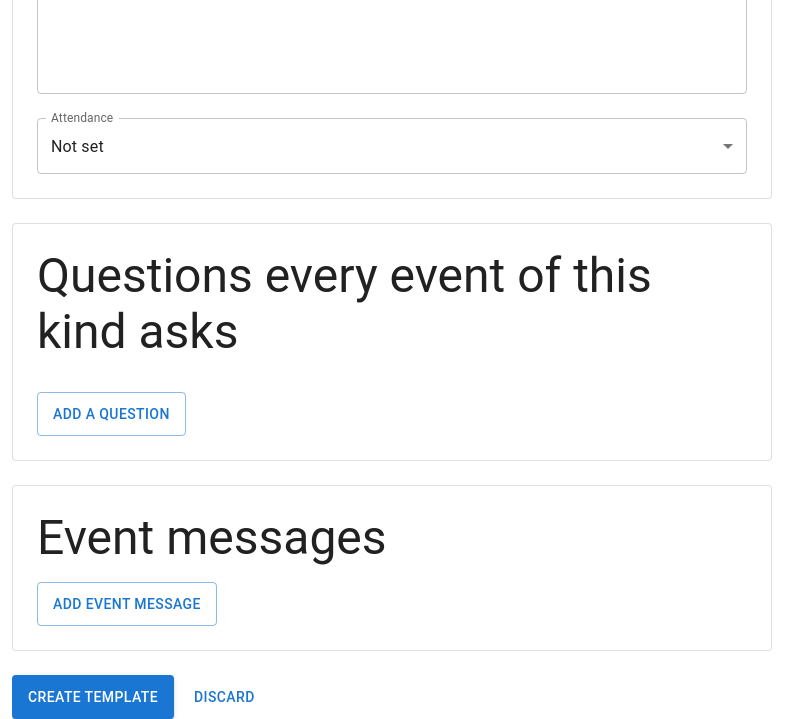
Test: colour is chosen from a fixed palette (Brian, 2026-09-10) › shows a refused colour as the field's own error, in place of the help text
(page scrolled)
Click the button with test id "preview-template": click(93, 697) [12, 675, 174, 718]
(page scrolled)
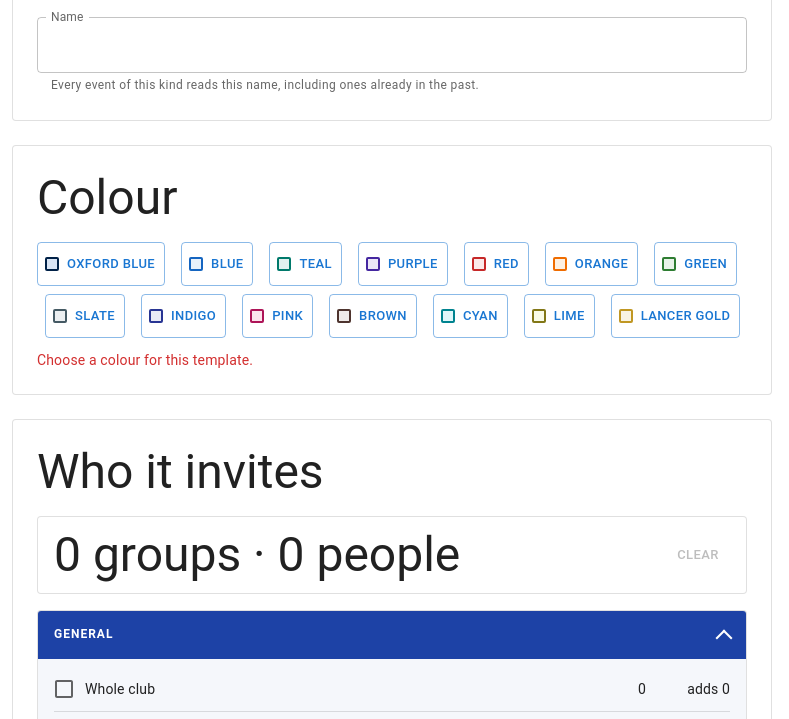
Expected: the text with test id "template-colour-help" reads "Choose a colour for this template.", [37, 352, 253, 368]
